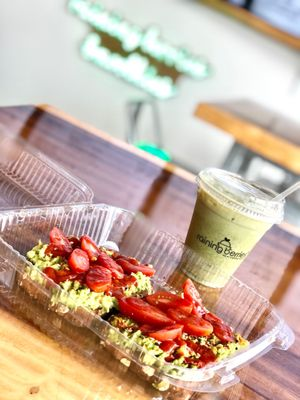pizza: (180, 166, 289, 310)
